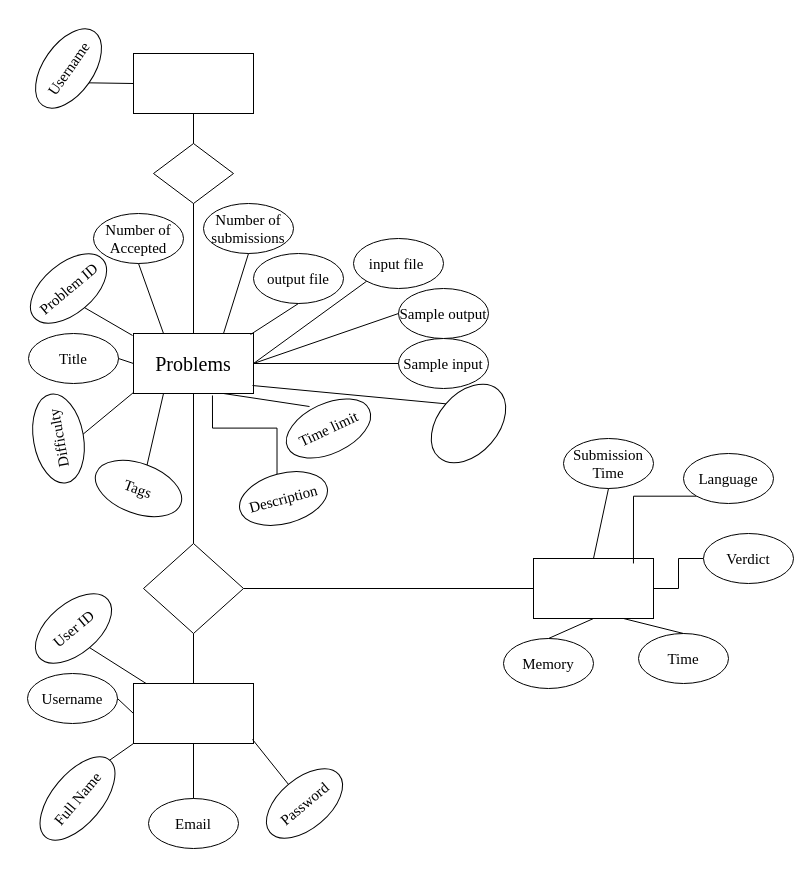
This 811x871 diagram has some shape labels left out. Here are the shapes that lost their labels. From the top down, the centre of each, then its label:
the point at 193,83: Admin
the point at 193,173: Manage
the point at 468,423: Memory limit
the point at 193,588: Has Solutions
the point at 593,588: Submissions
the point at 193,713: User
